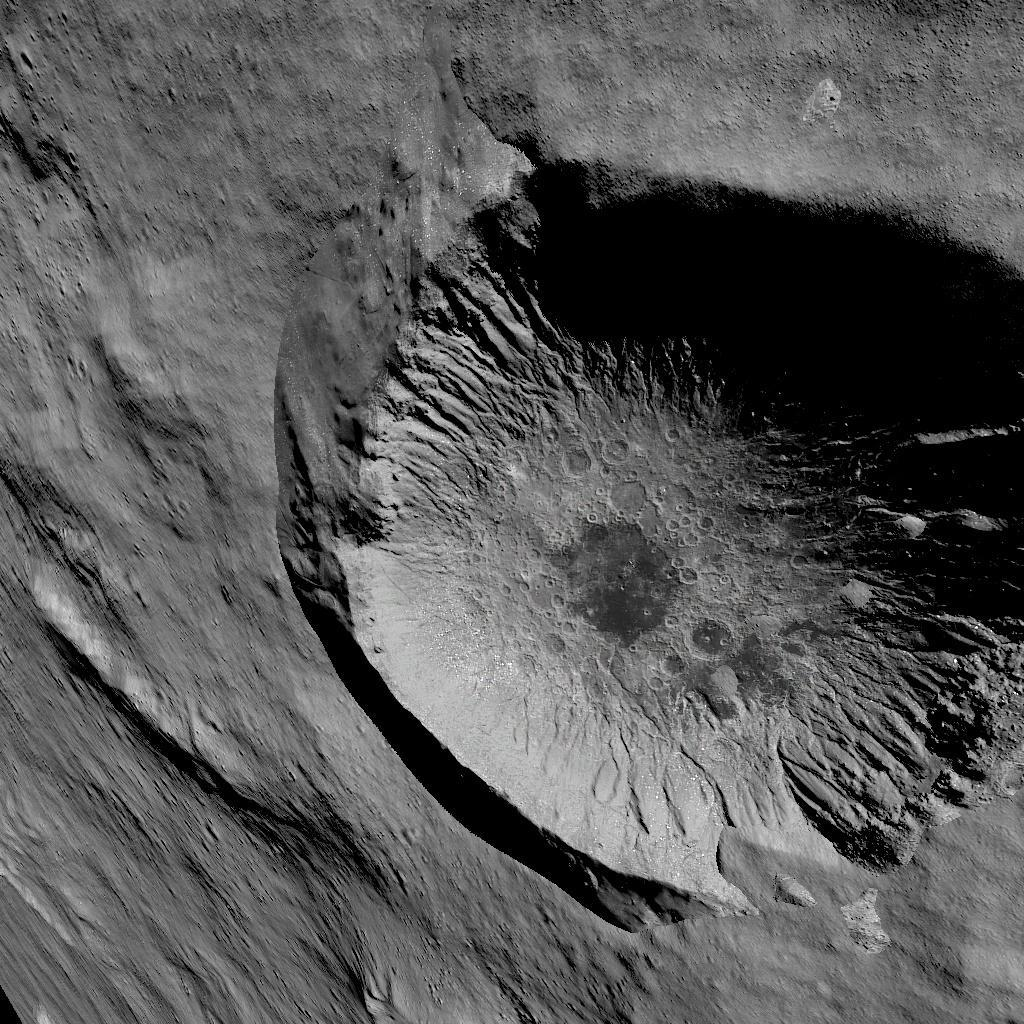Crater: (277, 172, 1024, 916)
Plan surface: (1, 1, 249, 446)
